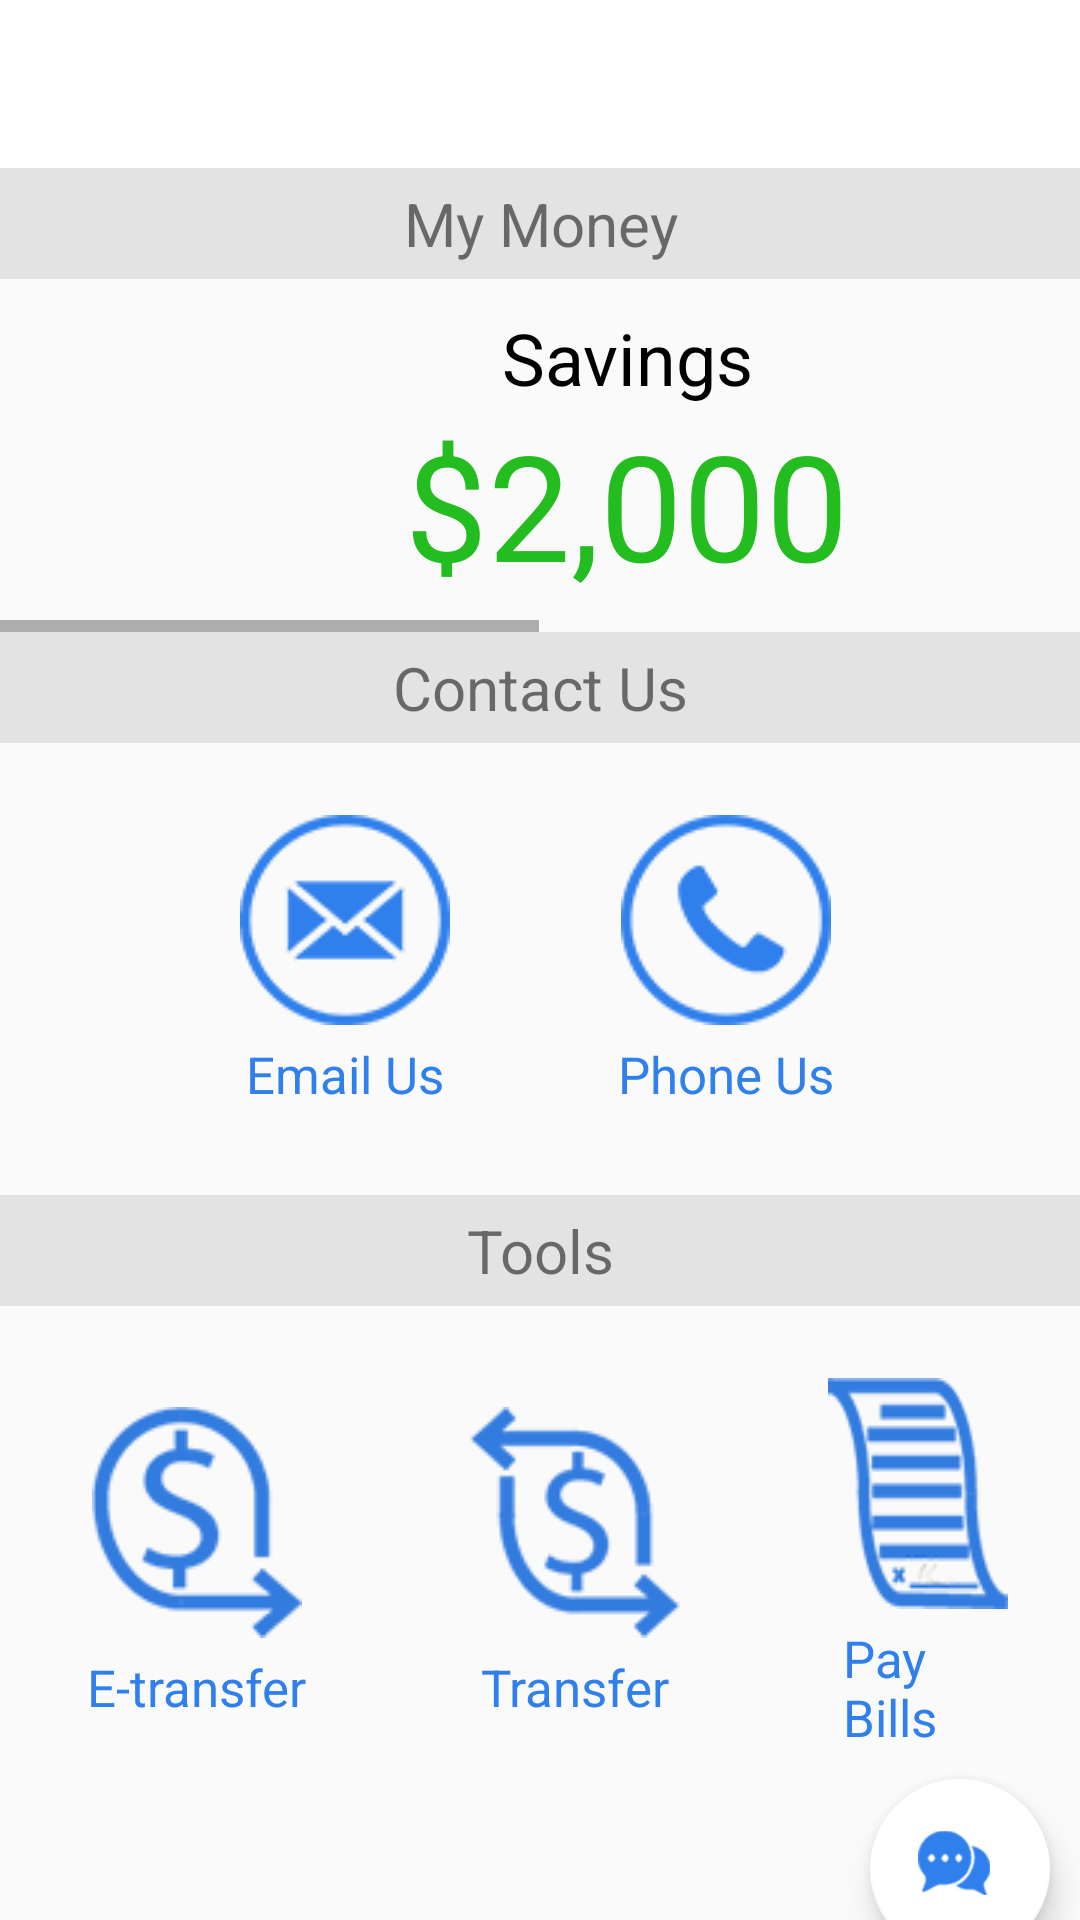

Point at icon controls on the screen. Image size 1080w x 1920h, points as [x,y].
script: [918,1493]
